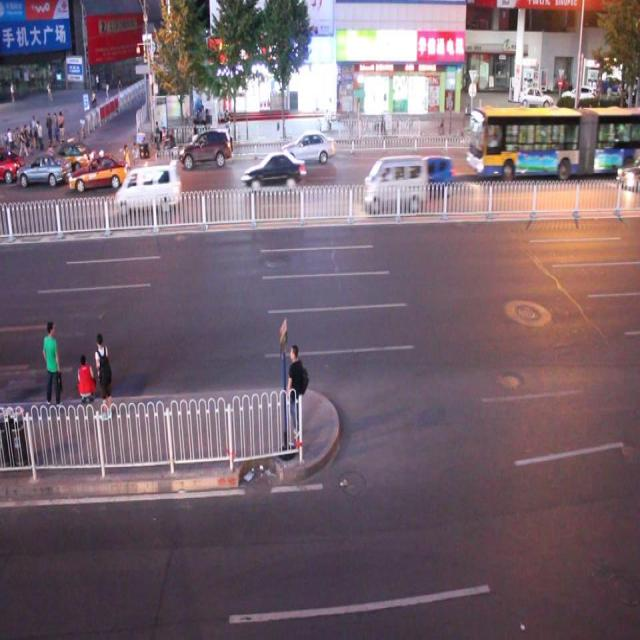car: (242, 152, 303, 192), (179, 126, 233, 167), (68, 154, 125, 190), (280, 129, 335, 164), (18, 153, 70, 186), (418, 154, 453, 196), (48, 140, 92, 169), (1, 146, 23, 182)
truck: (364, 155, 427, 210), (114, 166, 180, 213)
van: (466, 102, 640, 184)
